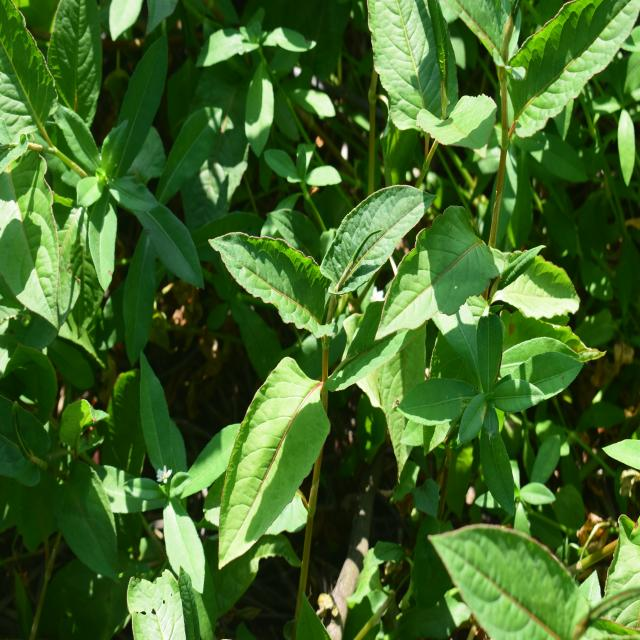Chinese_knotweed: (206, 175, 422, 517)
